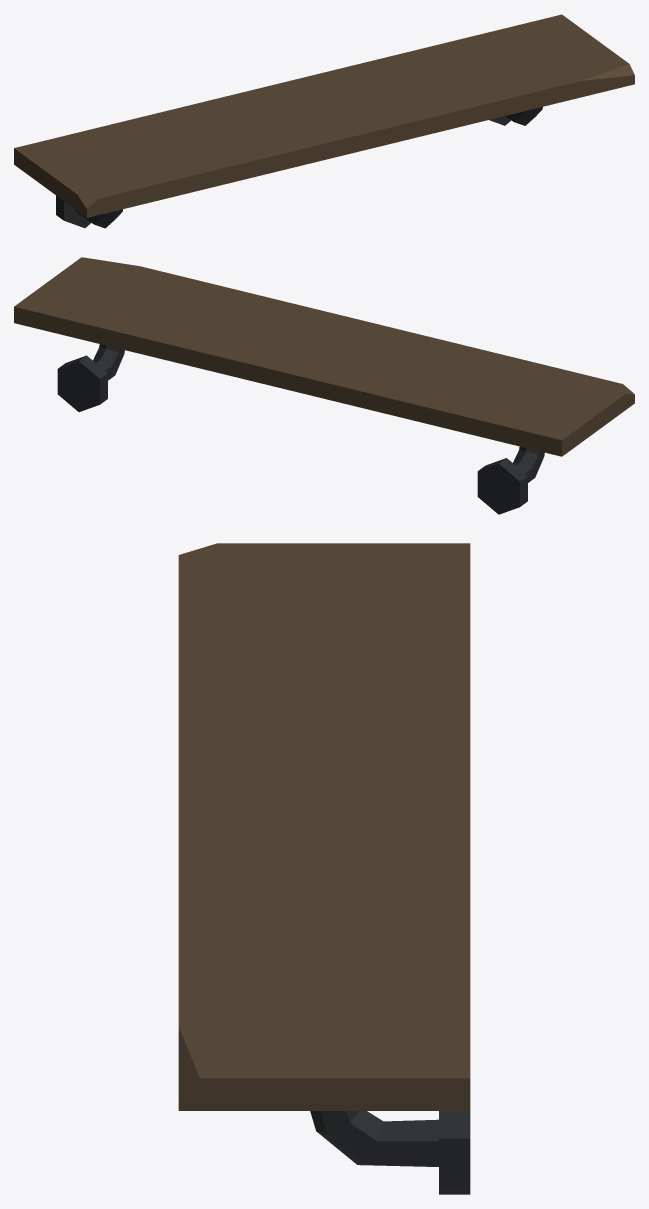
Rendered from SM_Bld_Shelf_Small_01.obj.
3 views of the same model, one above another, from view 1: azimuth 30°, elevation 25°; view 2: azimuth 150°, elevation 25°; view 3: azimuth 270°, elevation 25° (orthographic). The views are drawn at different scales.
Parts seen in each view (by area): view 1: SM_Bld_Shelf_Small_01_0; view 2: SM_Bld_Shelf_Small_01_0; view 3: SM_Bld_Shelf_Small_01_0.
Part boxes in pixels (x1,y1,x2,y2): SM_Bld_Shelf_Small_01_0: [14, 14, 634, 228]; SM_Bld_Shelf_Small_01_0: [14, 257, 634, 514]; SM_Bld_Shelf_Small_01_0: [178, 543, 470, 1194].
Size of the model in its own units: 1.36 by 0.2126 by 0.3132.
Materials: 1 (1 with a texture image).
